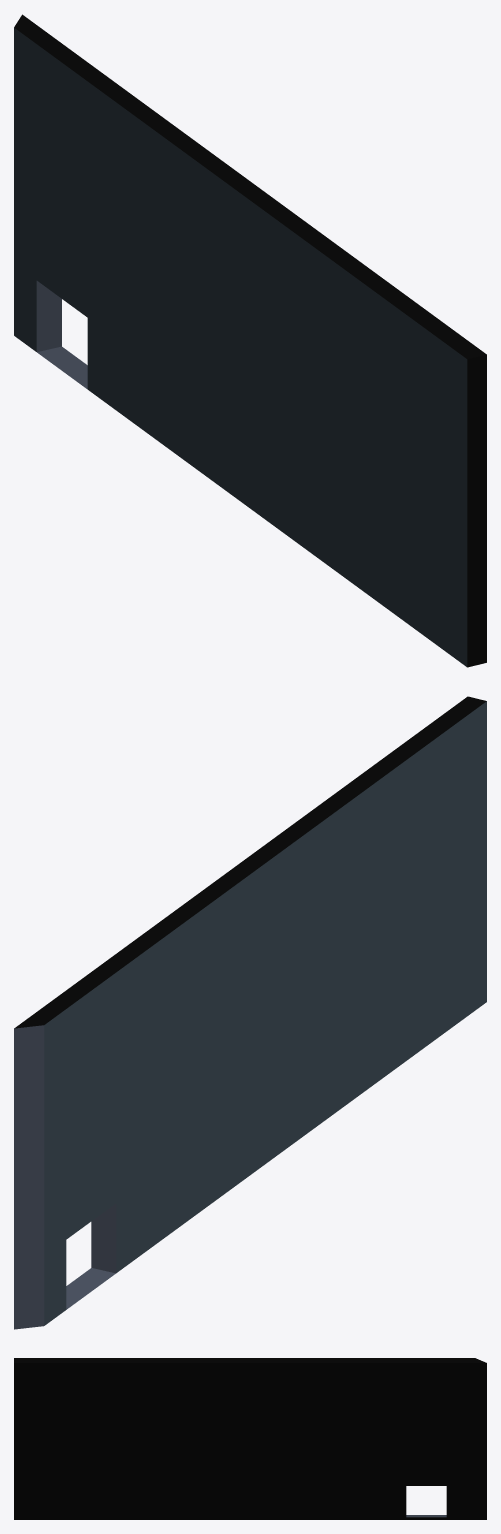
The model's file is vent-wall.fbx.
3 views of the same model, one above another, from view 1: azimuth 30°, elevation 25°; view 2: azimuth 150°, elevation 25°; view 3: azimuth 270°, elevation 25° (orthographic). The views are drawn at different scales.
Parts seen in each view (by area): view 1: vent-wall; view 2: vent-wall; view 3: vent-wall.
Boxes of the visible parts, x1=… form: vent-wall: x1=14, y1=14, x2=486, y2=667; vent-wall: x1=14, y1=696, x2=486, y2=1329; vent-wall: x1=14, y1=1358, x2=486, y2=1519.
Size of the model in its own units: 0.2 by 8.2 by 3.
Materials: 1 (1 with a texture image).
